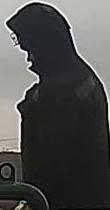vest: (15, 61, 110, 202)
